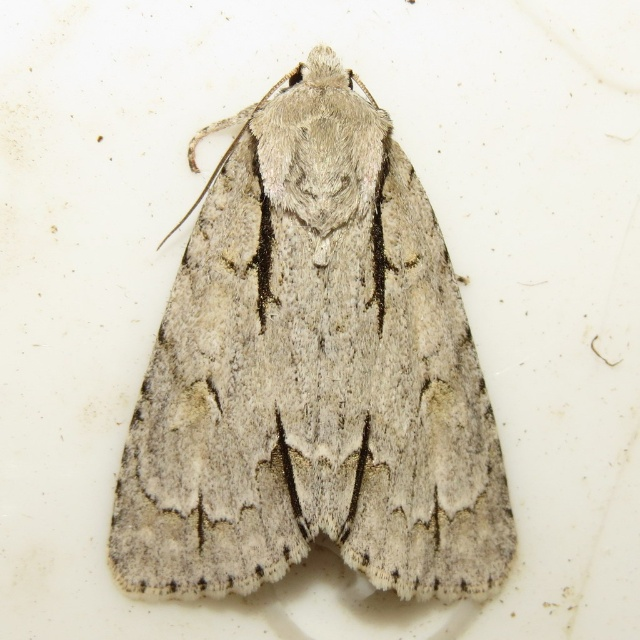Moths and butterflies: (106, 40, 520, 610)
